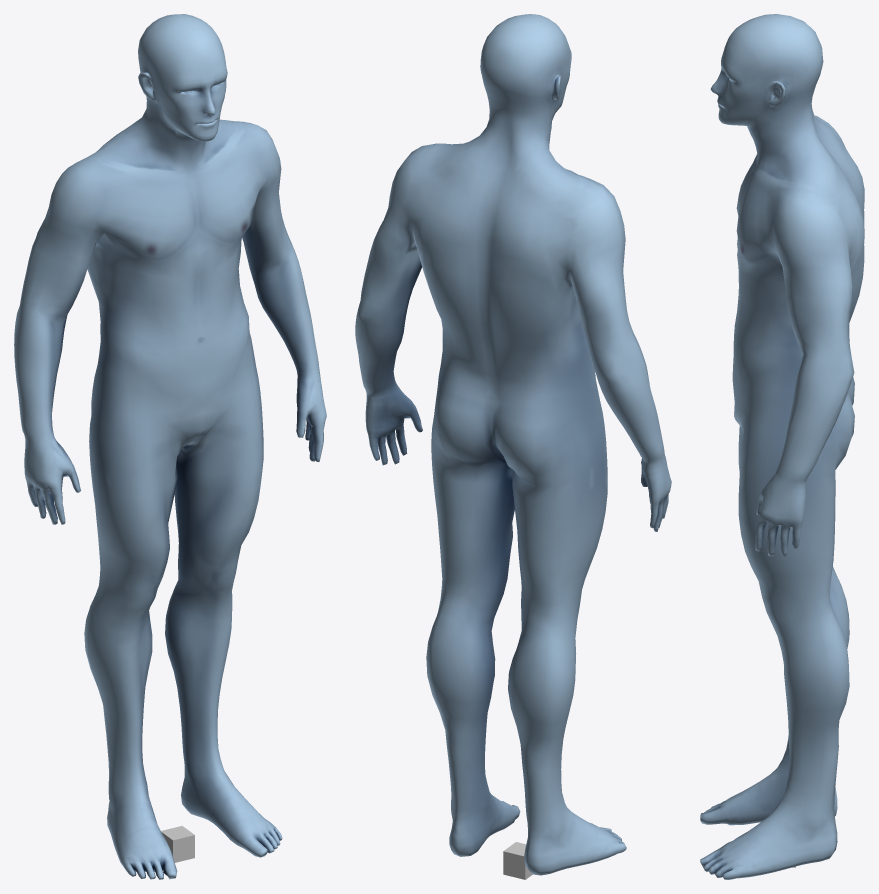
The model's file is normal.obj.
The picture shows the model from 3 angles, left to right: view 1: azimuth 30°, elevation 25°; view 2: azimuth 150°, elevation 25°; view 3: azimuth 270°, elevation 25°; orthographic projection.
Parts seen in each view (by area): view 1: UV_LP.002, Cube; view 2: UV_LP.002, Cube; view 3: UV_LP.002.
Boxes of the visible parts, left/top/right/bottom form: UV_LP.002: left=14, top=14, right=326, bottom=879; Cube: left=161, top=826, right=194, bottom=862; UV_LP.002: left=355, top=14, right=671, bottom=875; Cube: left=503, top=842, right=532, bottom=879; UV_LP.002: left=700, top=14, right=864, bottom=879.
Bounding box in the file's own units: 26.54 × 73.05 × 12.91.
